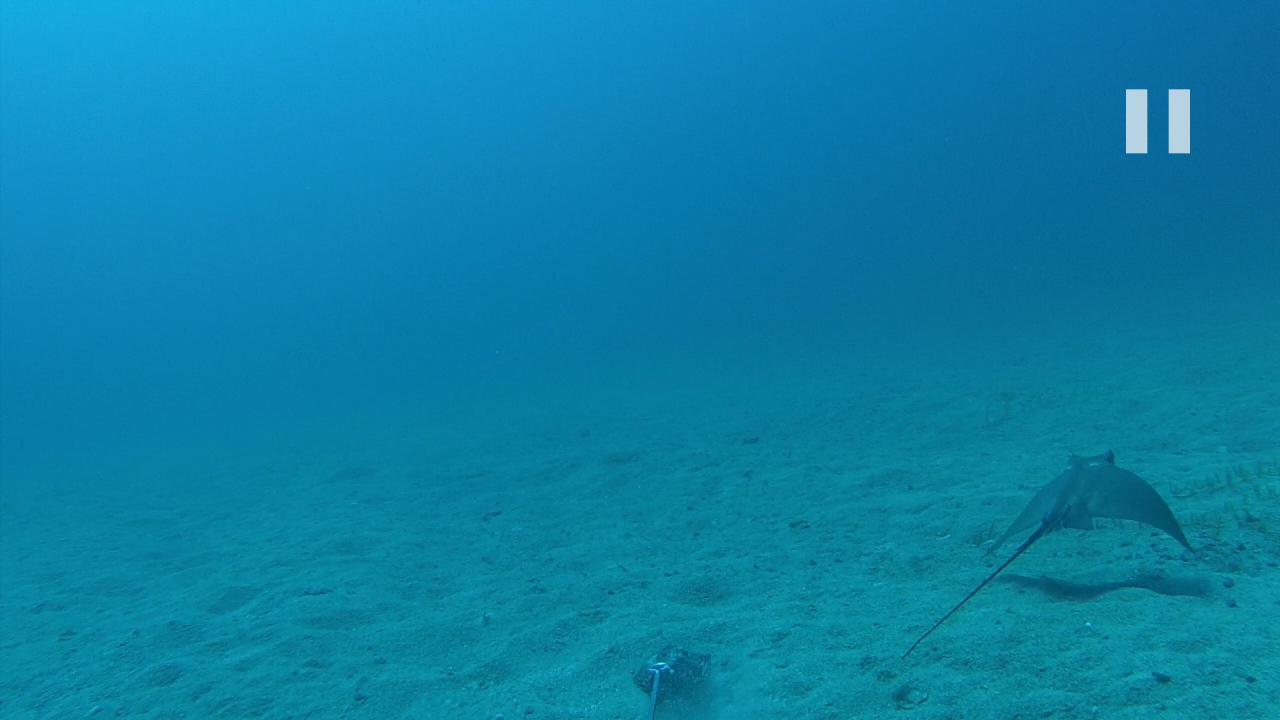dasyatis: (900, 451, 1195, 661)
